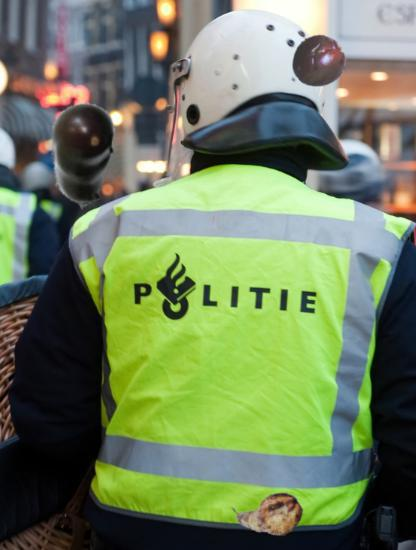Eggplant: (27, 100, 138, 211)
Passion: (291, 34, 346, 89)
Pear: (238, 482, 302, 546)
